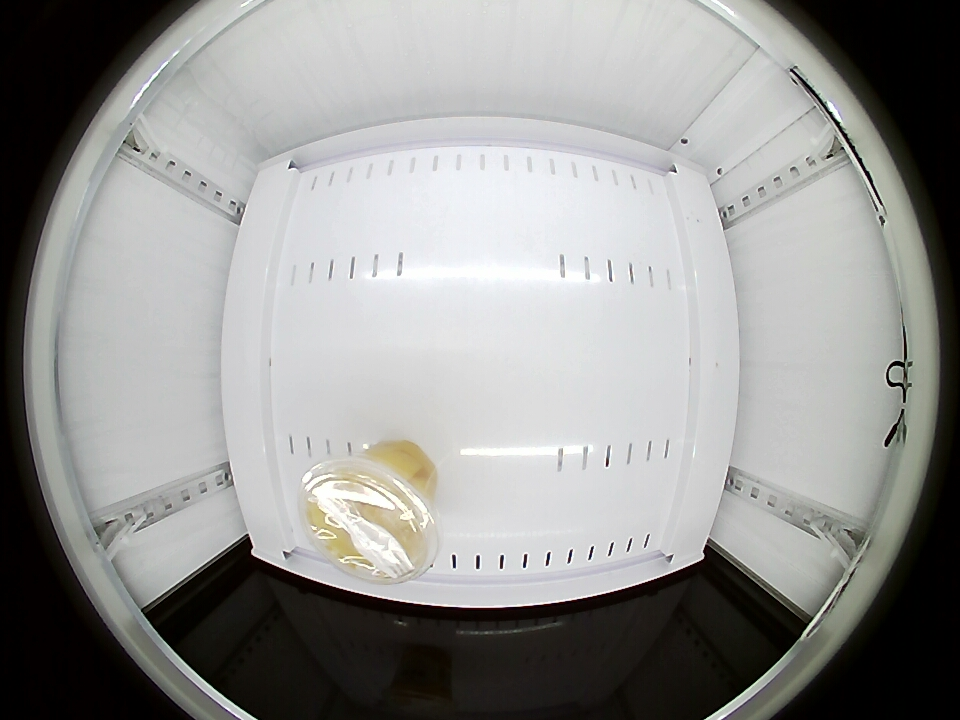xianguolao: (300, 453, 440, 582)
